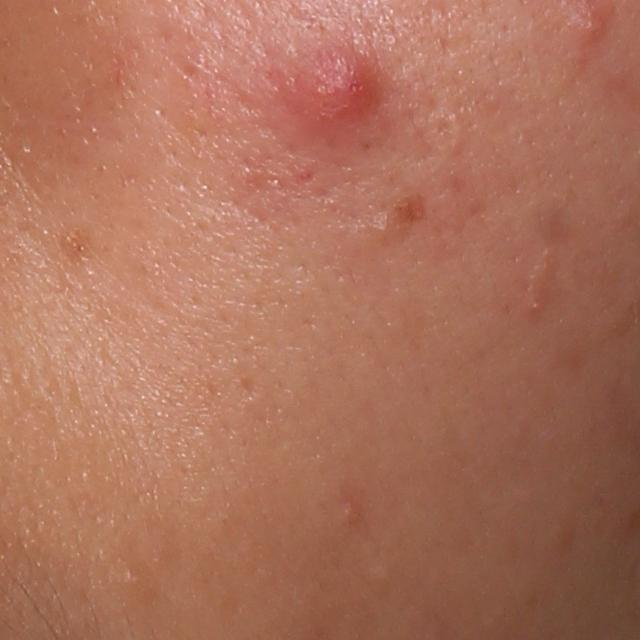comedo: (374, 564, 397, 587)
papule: (314, 63, 383, 121)
